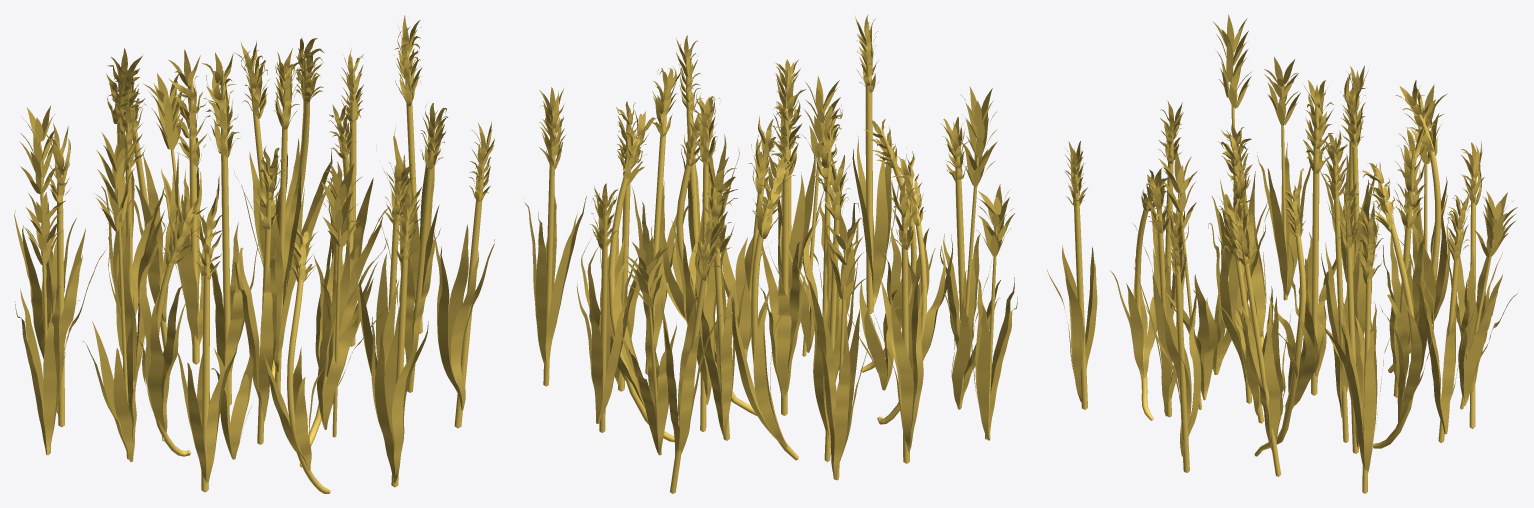
The model's file is wheatField.glb.
3 renders of one model, left to right at view 1: azimuth 30°, elevation 25°; view 2: azimuth 150°, elevation 25°; view 3: azimuth 270°, elevation 25°, orthographic. The views are drawn at different scales.
Visible parts, largest first — view 1: brush_Petal_g0_b0_3, brush_Toon_g0_b0_0; view 2: brush_Petal_g0_b0_3, brush_Toon_g0_b0_0; view 3: brush_Petal_g0_b0_3, brush_Toon_g0_b0_0.
Boxes of the visible parts, x1=… form: brush_Petal_g0_b0_3: x1=14, y1=15, x2=494, y2=483; brush_Toon_g0_b0_0: x1=39, y1=50, x2=484, y2=493; brush_Petal_g0_b0_3: x1=524, y1=14, x2=1017, y2=479; brush_Toon_g0_b0_0: x1=543, y1=52, x2=997, y2=493; brush_Petal_g0_b0_3: x1=1046, y1=14, x2=1517, y2=472; brush_Toon_g0_b0_0: x1=1073, y1=43, x2=1497, y2=493.
Size of the model in its own units: 1.22 by 0.9921 by 1.19.
